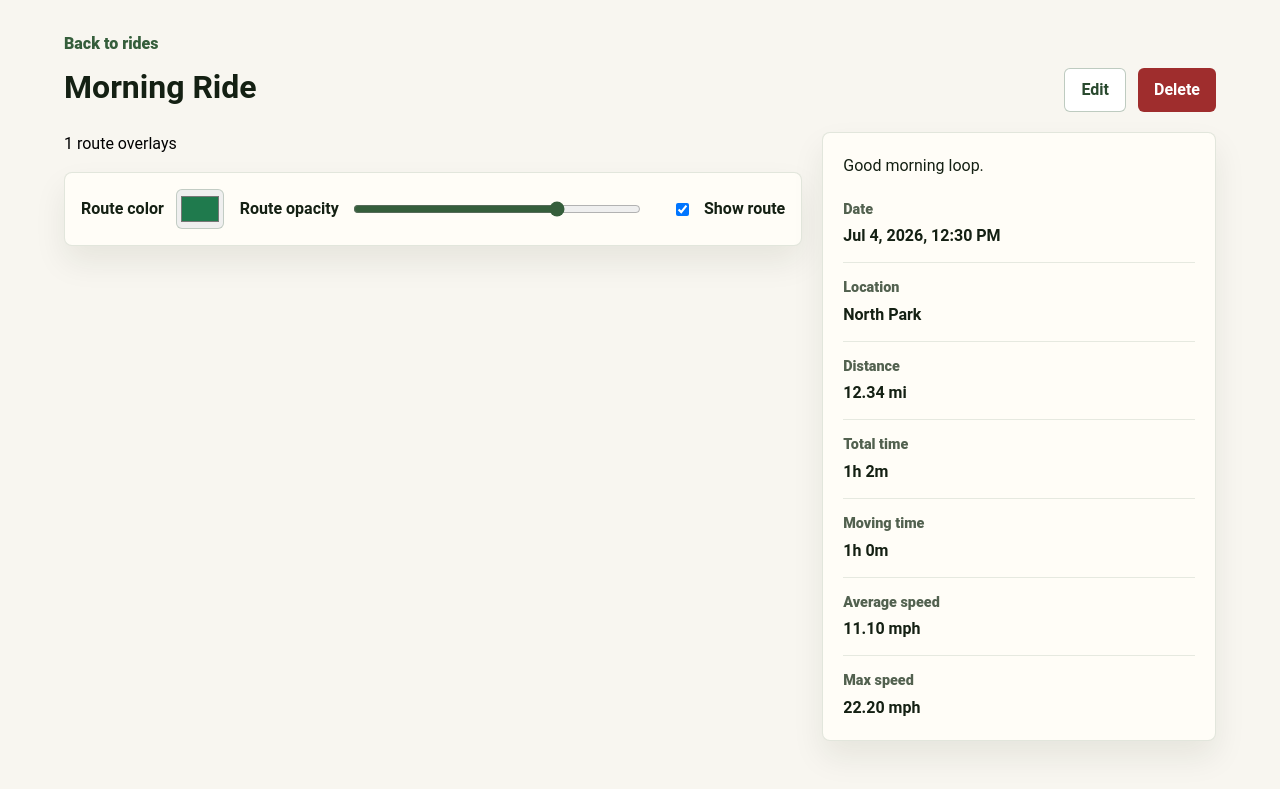
Test: RideDetailsView › renders update errors in the edit modal
Step 1. Click the button "Edit" → {"x": 1095, "y": 90}, box [1064,68,1126,112]
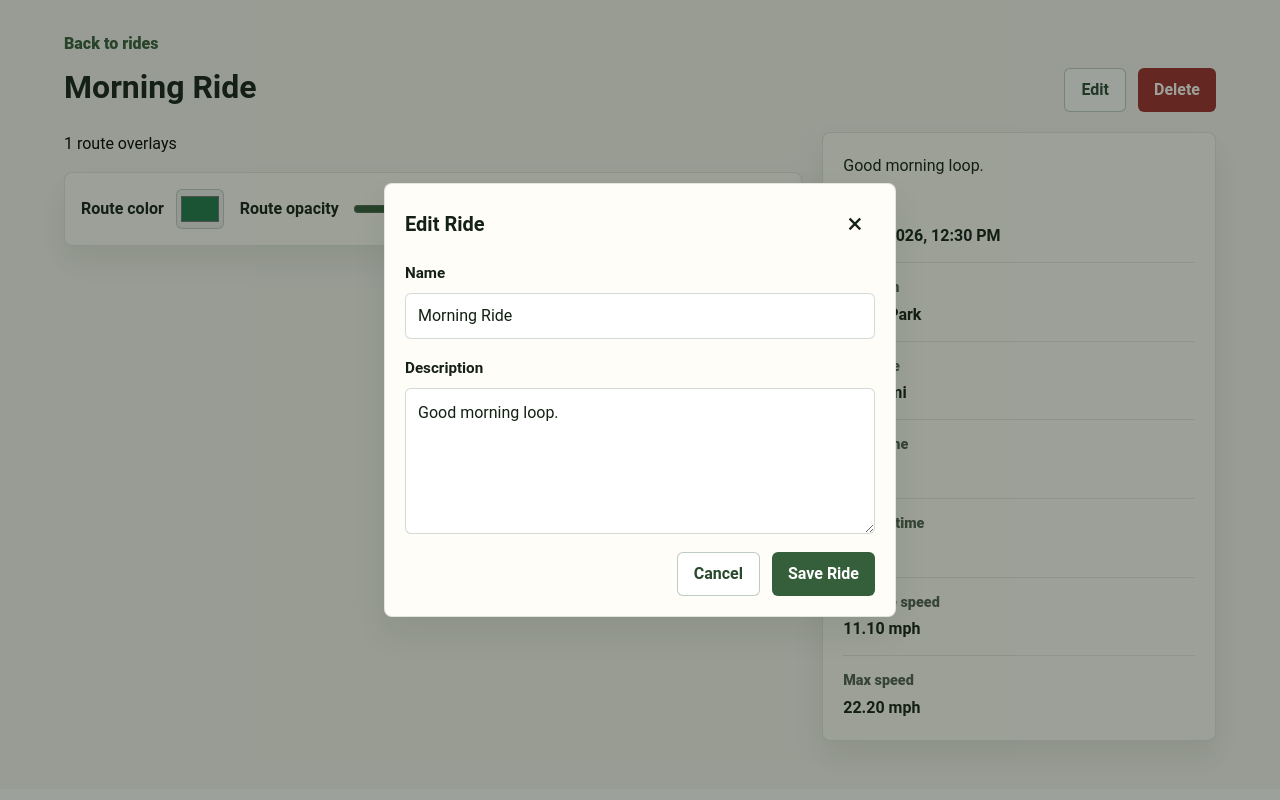
Step 2. Replace the text in the field with id "edit-ride-name" with "Updated Ride" → {"x": 640, "y": 316}, box [405,293,875,339]
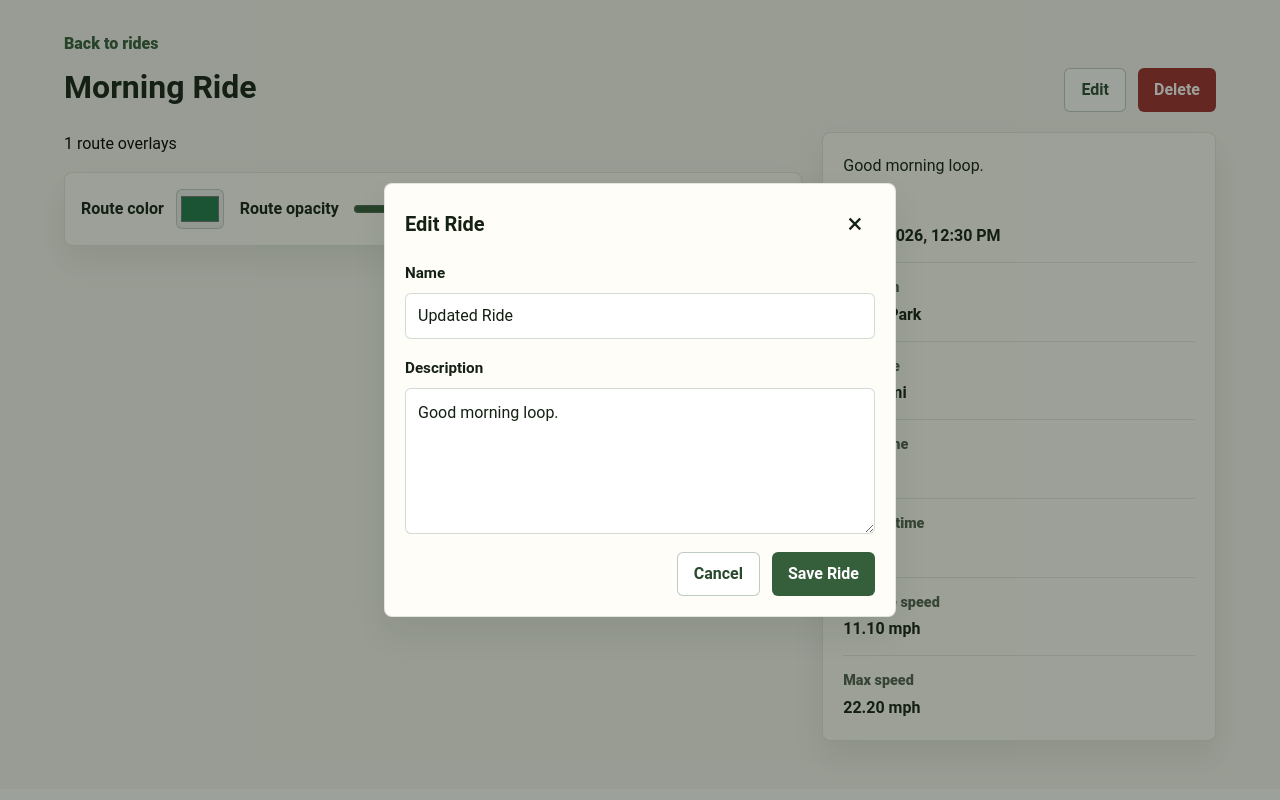
Step 3. Submit the form with class "modal-form", box [405,262,875,596]
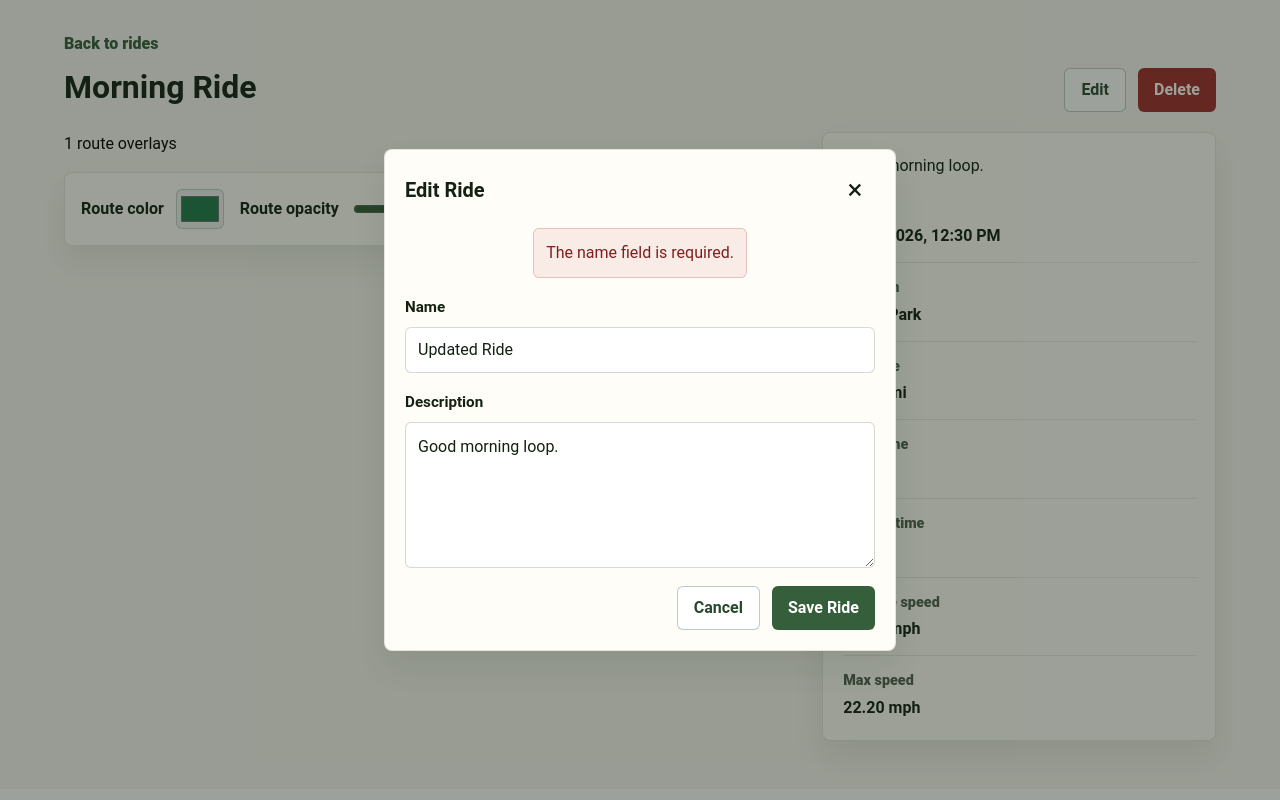
Result: the dialog with class "modal-panel" is shown at [384,149,896,651]
Result: the text "The name field is required." is shown at [533,228,747,278]
